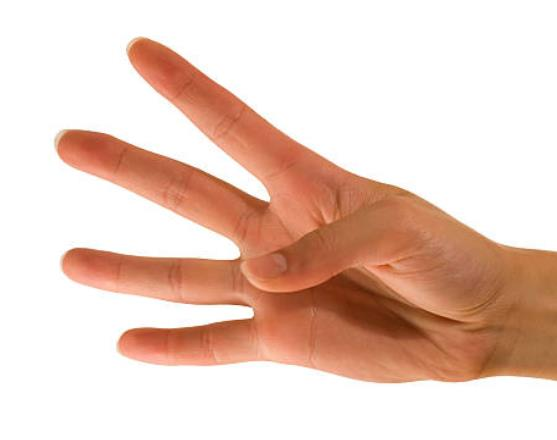right: (48, 34, 514, 372)
